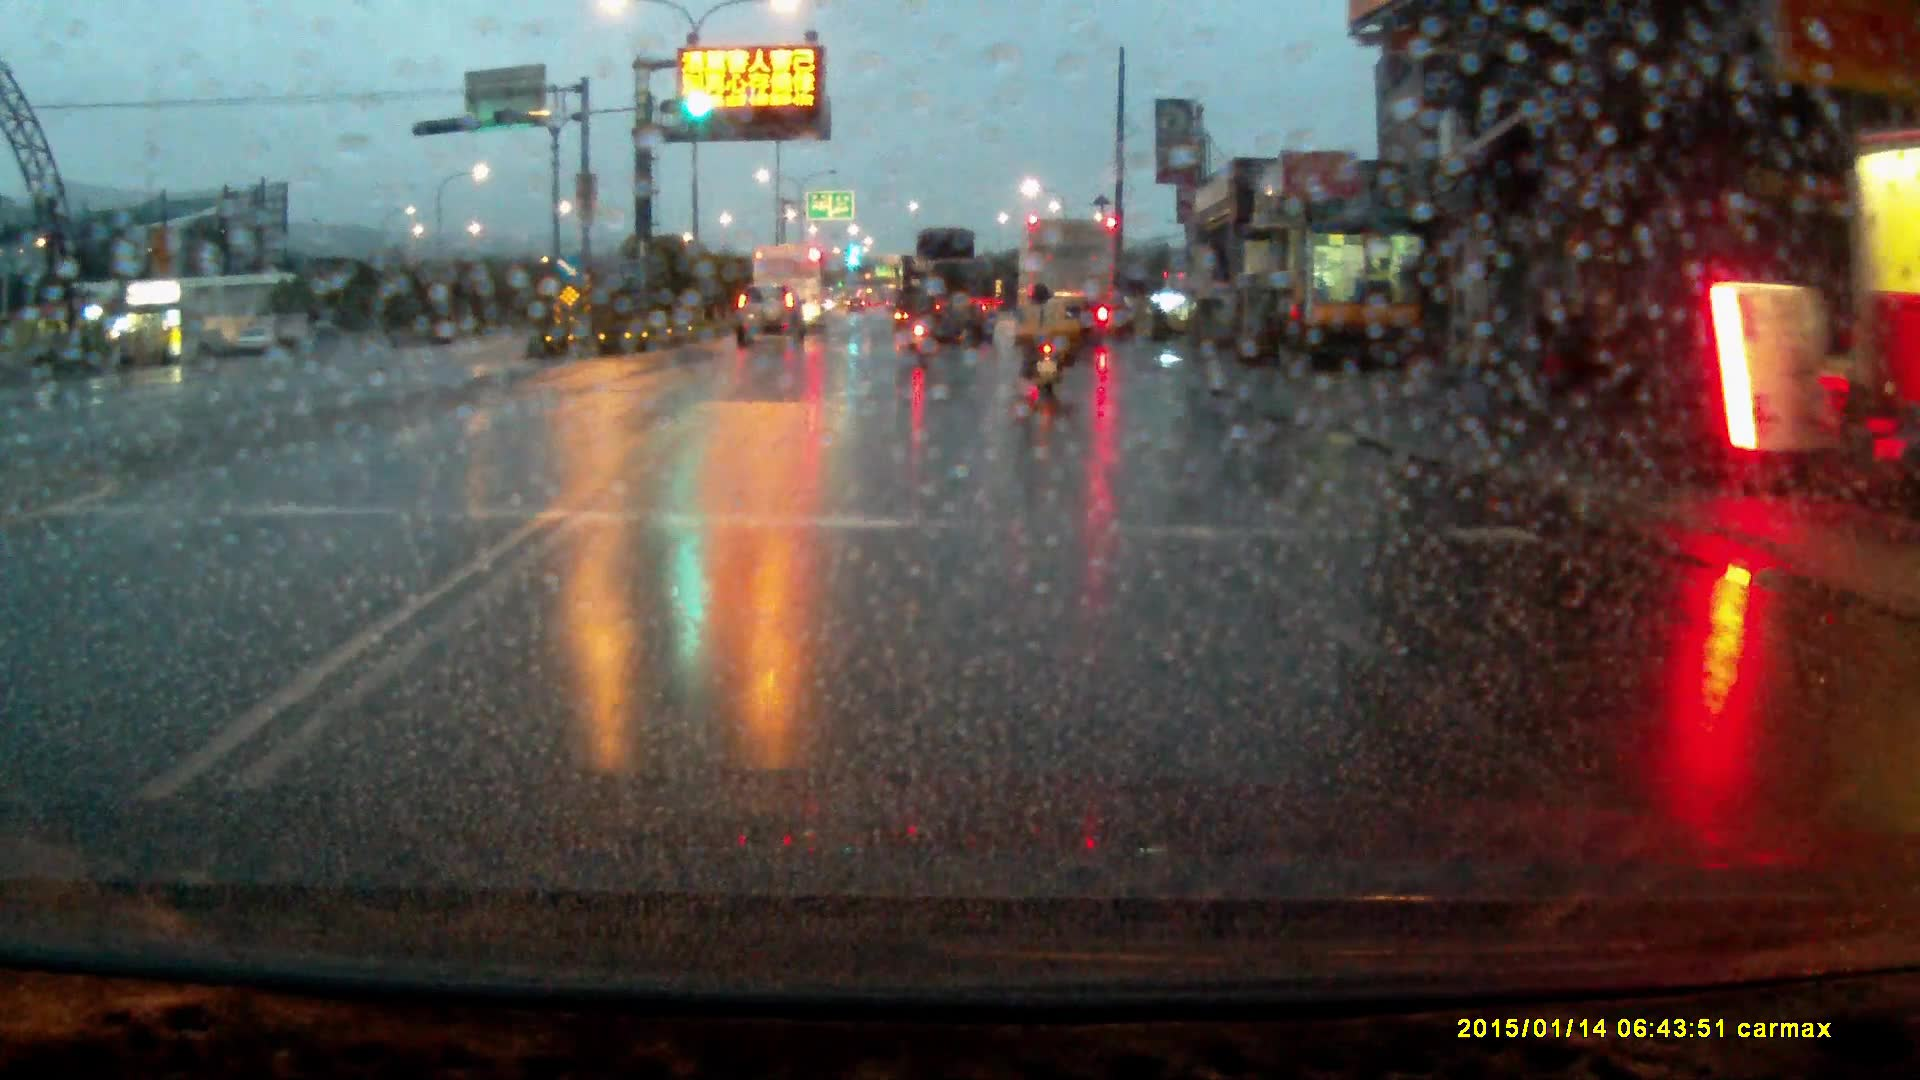rider: (1018, 287, 1077, 410), (901, 281, 939, 369)
vehicle: (1018, 219, 1118, 350), (902, 232, 997, 347), (755, 245, 829, 331), (733, 292, 808, 358)
